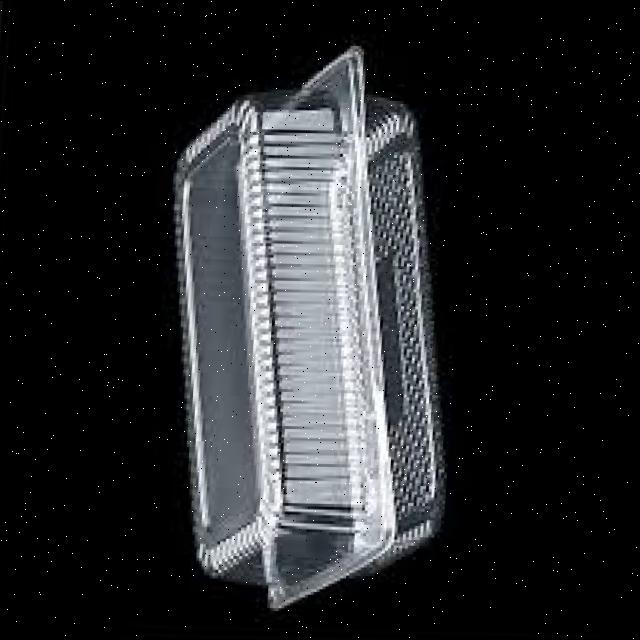disposable: (146, 33, 478, 607)
